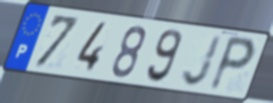4: (75, 21, 109, 74)
7: (35, 12, 83, 70)
8: (111, 24, 146, 79)
9: (145, 28, 184, 85)
J: (180, 33, 224, 88)
P: (206, 33, 258, 94)
